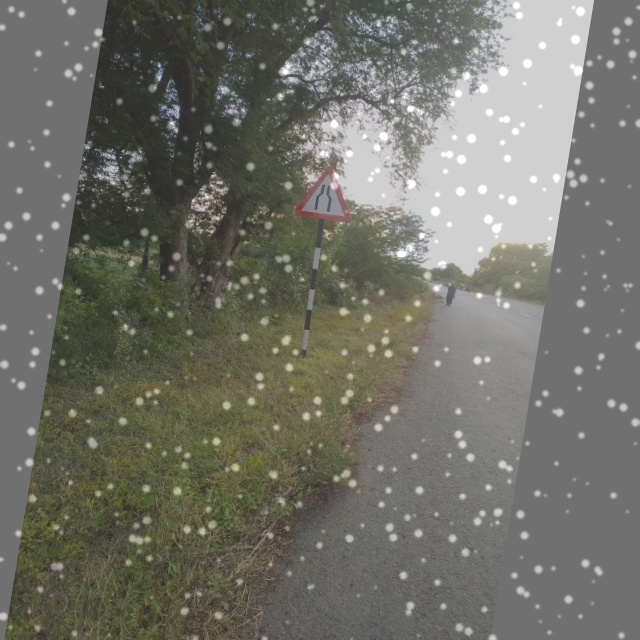Narrow_Road_Ahead: (291, 158, 357, 224)
